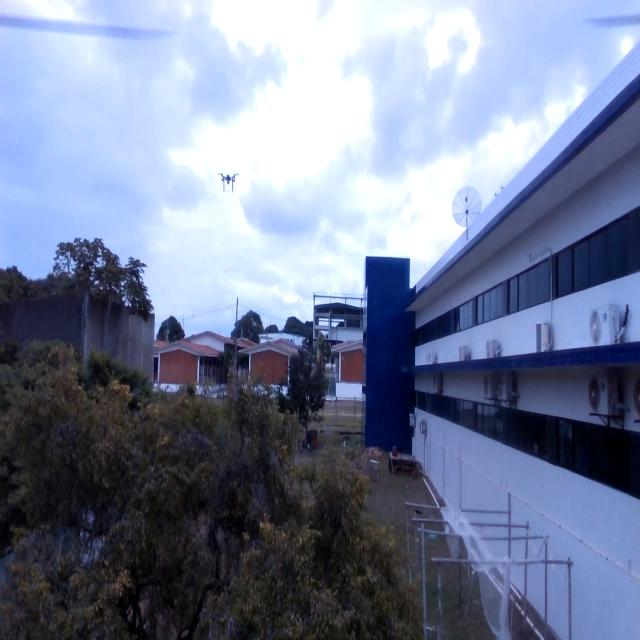-uav-: (214, 163, 240, 197)
